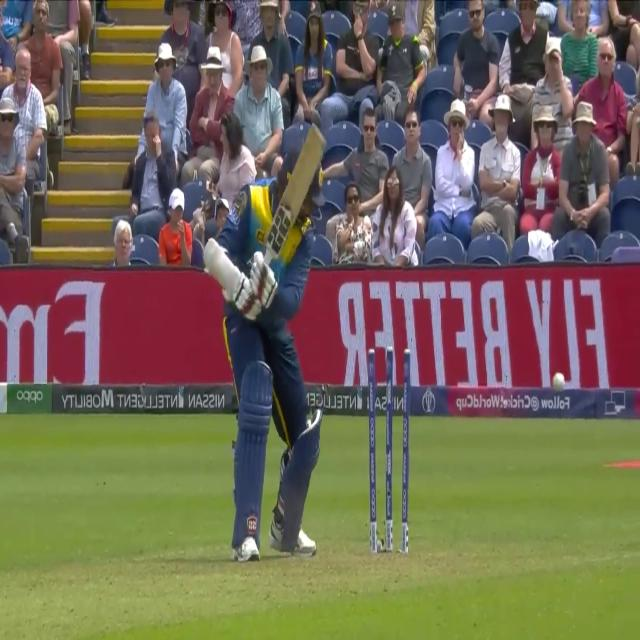ball: (550, 369, 567, 392)
